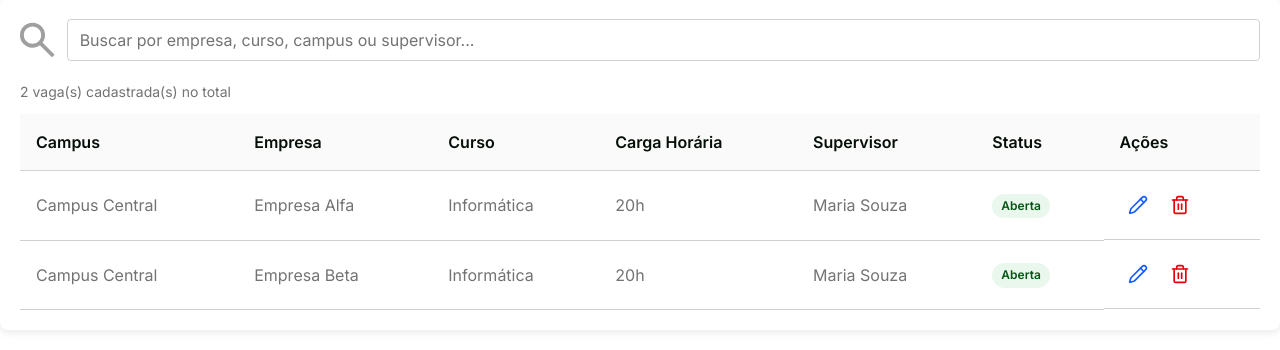
Test: TabelaVagas › filtra vagas pela busca
Expected: the table is shown, x1=20 y1=114 x2=1260 y2=310
In the field labelled "Buscar por empresa, curso, campus ou supervisor": (663,40) x1=67 y1=19 x2=1260 y2=61, type "Beta"
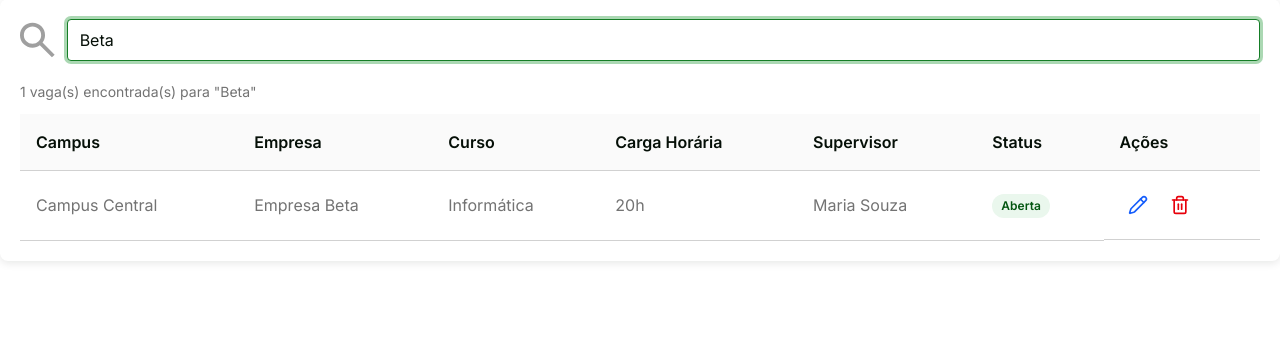
Expected: the text "Empresa Beta" is shown, x1=238 y1=171 x2=432 y2=240
Expected: the text "Empresa Alfa" is gone
